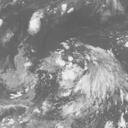cyclone: (51, 38, 110, 87)
